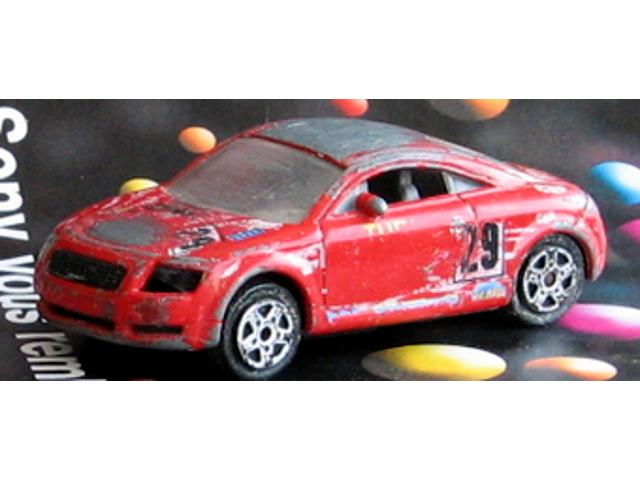toy-car: (32, 115, 607, 381)
